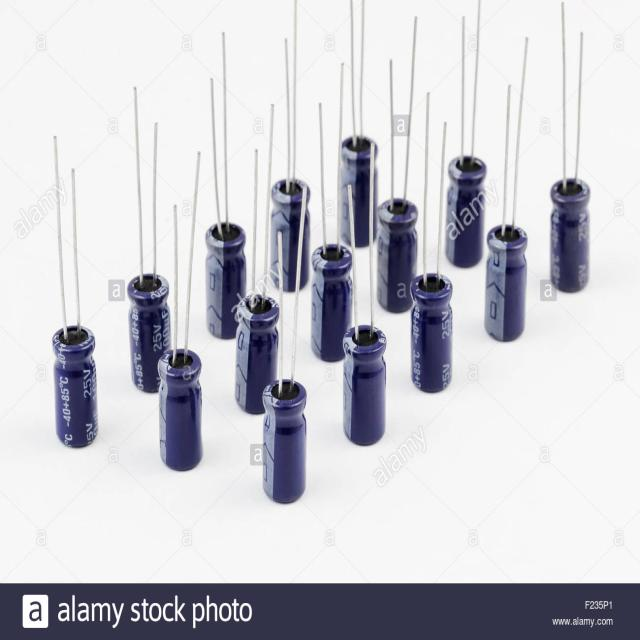Capacitor: (262, 186, 308, 503), (52, 137, 98, 447), (159, 152, 202, 471), (342, 142, 386, 444), (128, 89, 171, 393), (485, 39, 528, 341), (410, 94, 452, 393), (205, 50, 246, 339), (311, 65, 351, 361), (378, 18, 418, 312), (550, 3, 590, 293), (235, 150, 279, 413), (445, 0, 486, 267), (340, 2, 378, 247), (270, 55, 305, 290)
